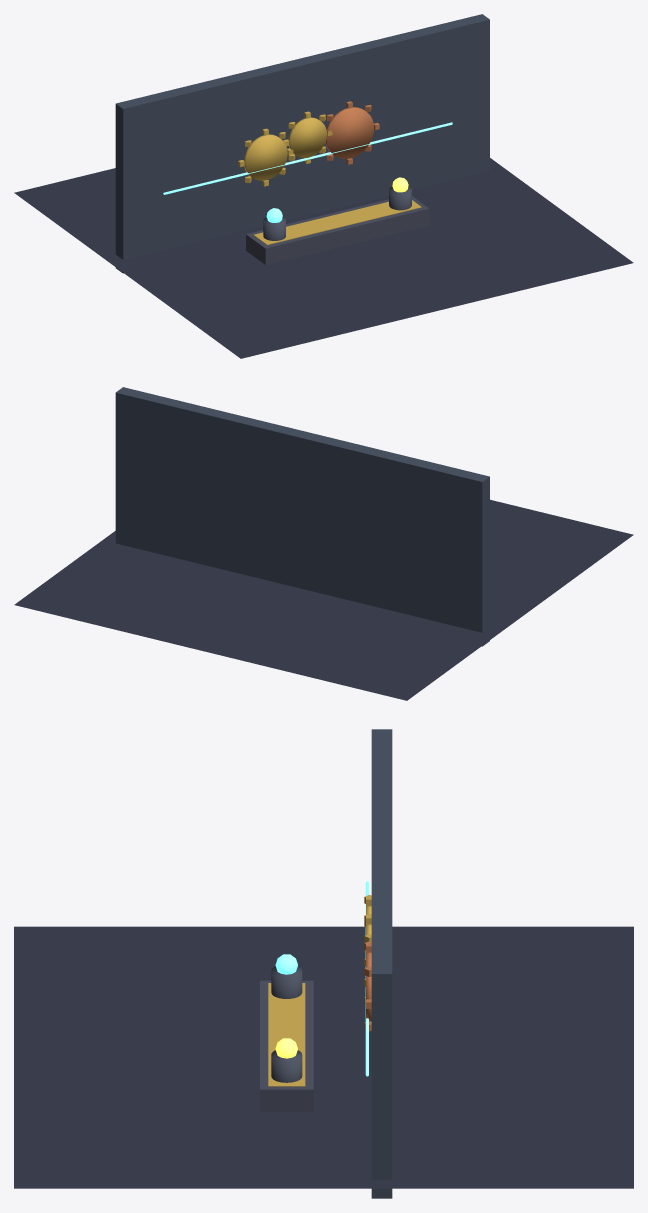
The model's file is puzzle_chamber.glb.
3 views of the same model, one above another, from view 1: azimuth 30°, elevation 25°; view 2: azimuth 150°, elevation 25°; view 3: azimuth 270°, elevation 25° (orthographic). The views are drawn at different scales.
Parts seen in each view (by area): view 1: Cube, Plane, Cube.025, Cylinder.001, Cube.027, Cylinder, Cylinder.002, Cylinder.003; view 2: Cube, Plane; view 3: Plane, Cube, Cube.025, Cube.027, Cylinder.004, Cylinder.005.
Part boxes in pixels (x1,y1,x2,y2): Cube: [115, 14, 489, 273]; Plane: [14, 158, 633, 358]; Cube.025: [246, 196, 429, 264]; Cylinder.001: [325, 107, 373, 158]; Cube.027: [253, 200, 421, 245]; Cylinder: [244, 134, 287, 180]; Cylinder.002: [288, 117, 326, 158]; Cylinder.003: [163, 122, 452, 194]; Cube: [115, 387, 489, 646]; Plane: [14, 499, 633, 700]; Plane: [14, 926, 633, 1188]; Cube: [371, 729, 392, 1198]; Cube.025: [260, 980, 313, 1112]; Cube.027: [268, 983, 305, 1086]; Cylinder.004: [271, 966, 302, 998]; Cylinder.005: [271, 1050, 302, 1082].
Bounding box in the file's own units: 30 × 12 × 30.
